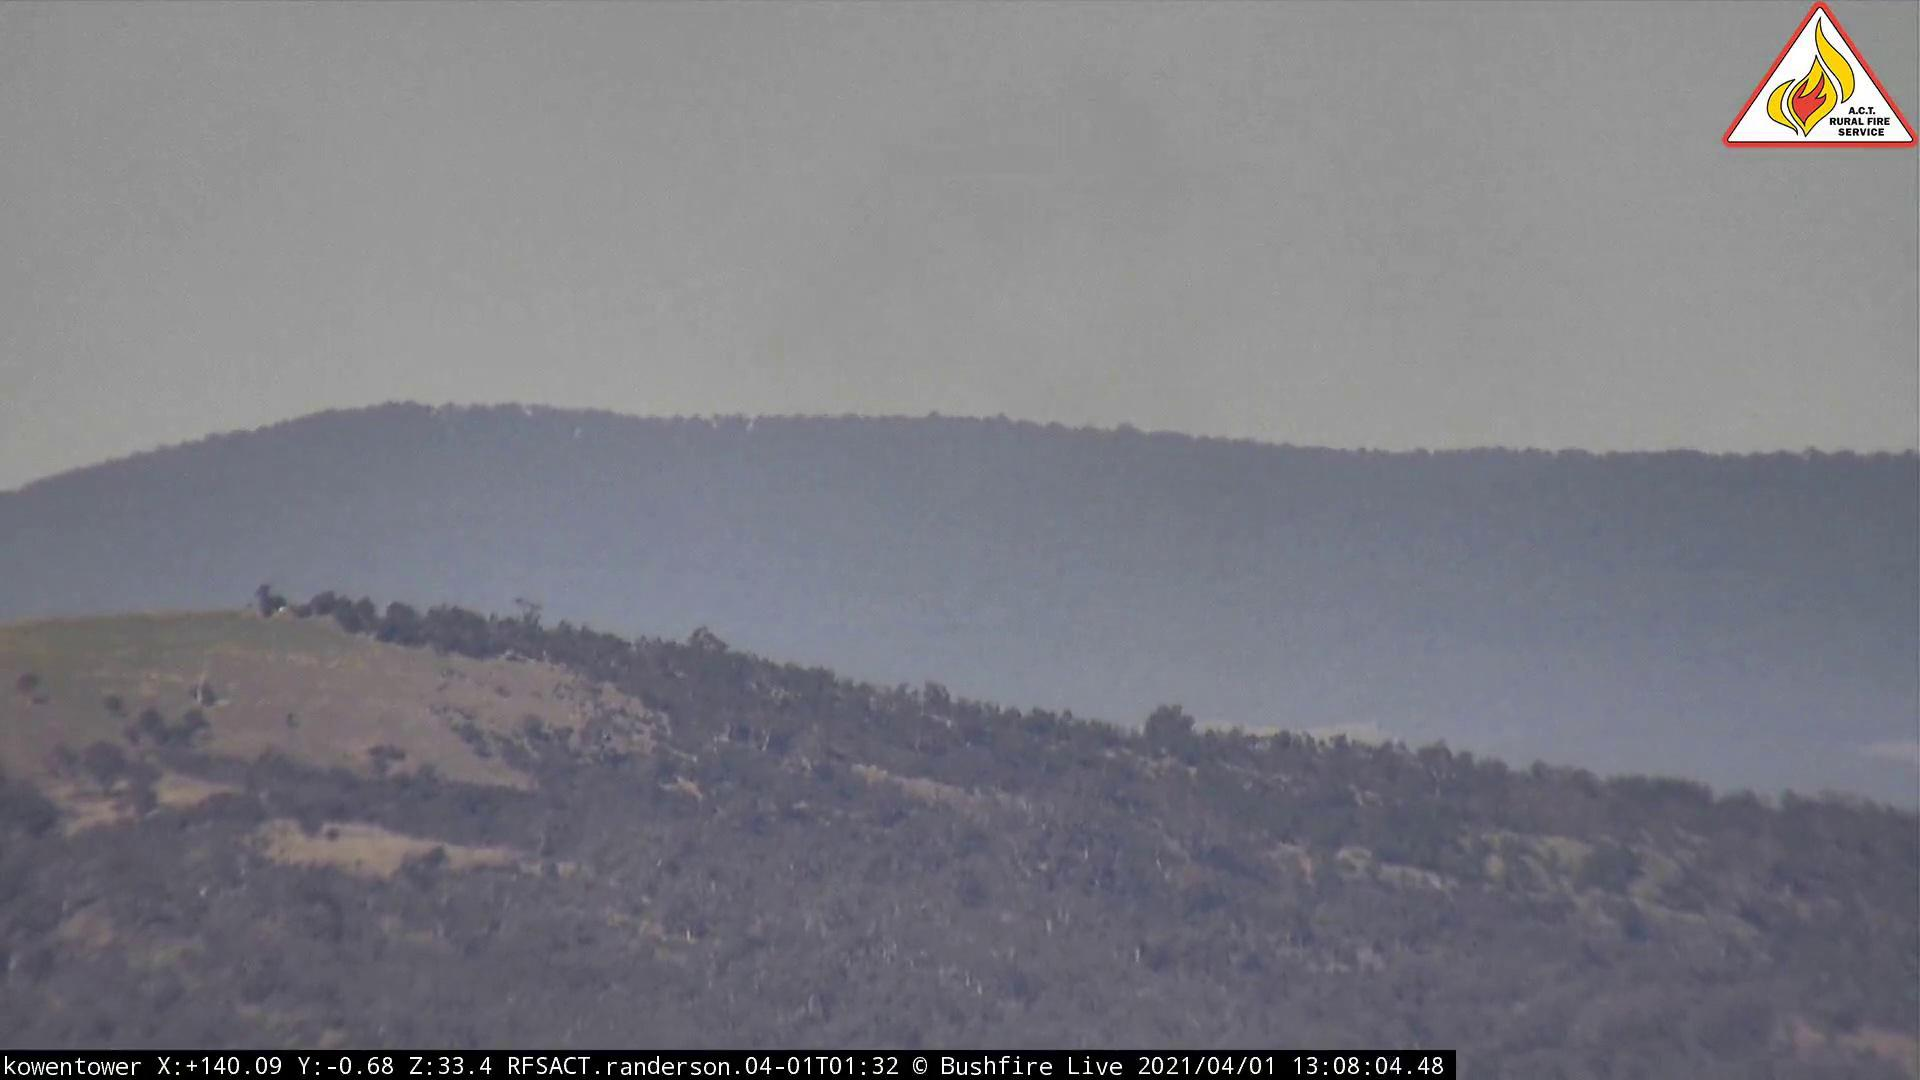Smoke: (777, 113, 1389, 596)
